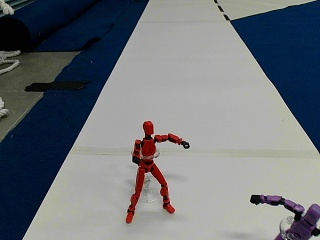pedestrian: (126, 120, 186, 222), (248, 191, 317, 237)
